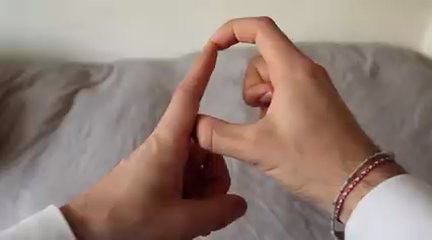D: (84, 7, 371, 240)
